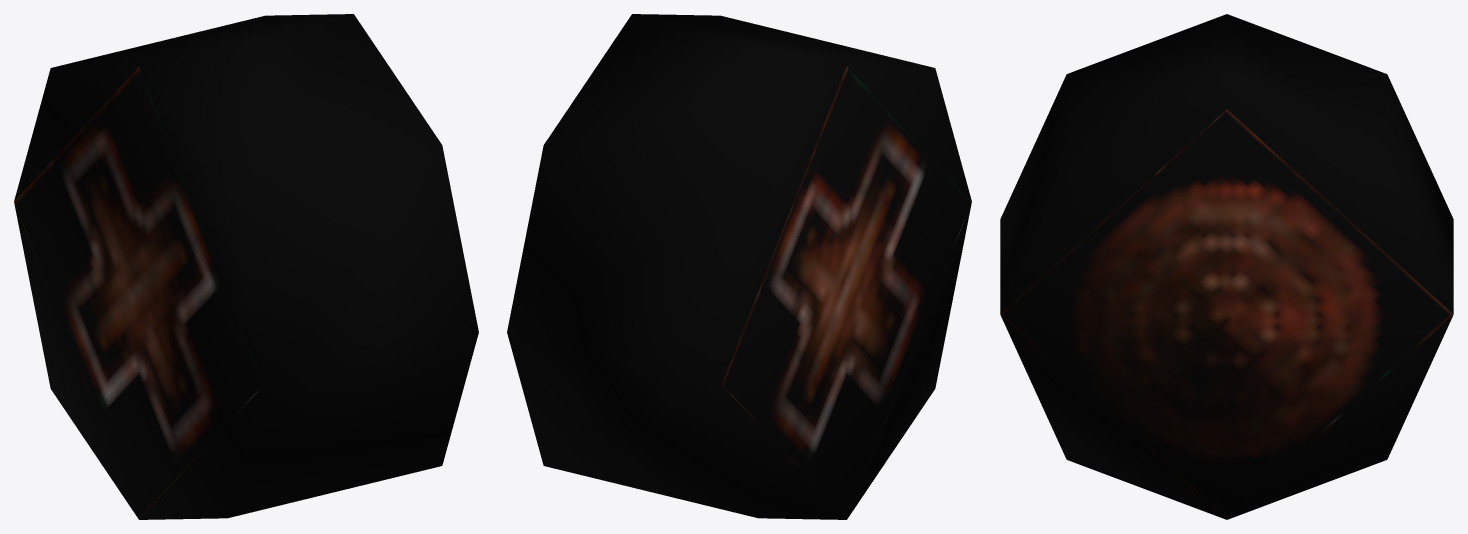
Rendered from WheelFrontR.obj.
3 renders of one model, left to right at view 1: azimuth 30°, elevation 25°; view 2: azimuth 150°, elevation 25°; view 3: azimuth 270°, elevation 25°, orthographic. The views are drawn at different scales.
Visible parts, largest first — view 1: WheelFrontR; view 2: WheelFrontR; view 3: WheelFrontR.
Boxes of the visible parts, x1,y1,x2,y2 form: WheelFrontR: [14, 14, 478, 519]; WheelFrontR: [507, 14, 971, 519]; WheelFrontR: [1000, 14, 1453, 519].
Bounding box in the file's own units: 0.3647 × 0.7362 × 0.7362.
Materials: 2 (1 with a texture image).
